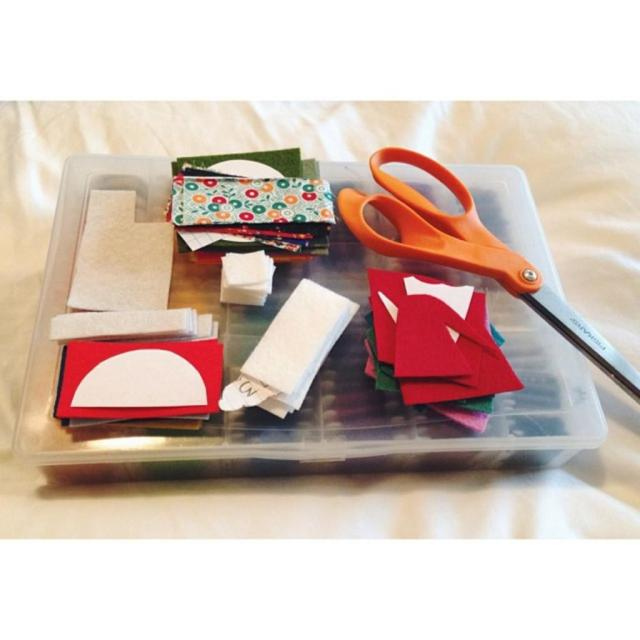scissor: (336, 142, 640, 405)
